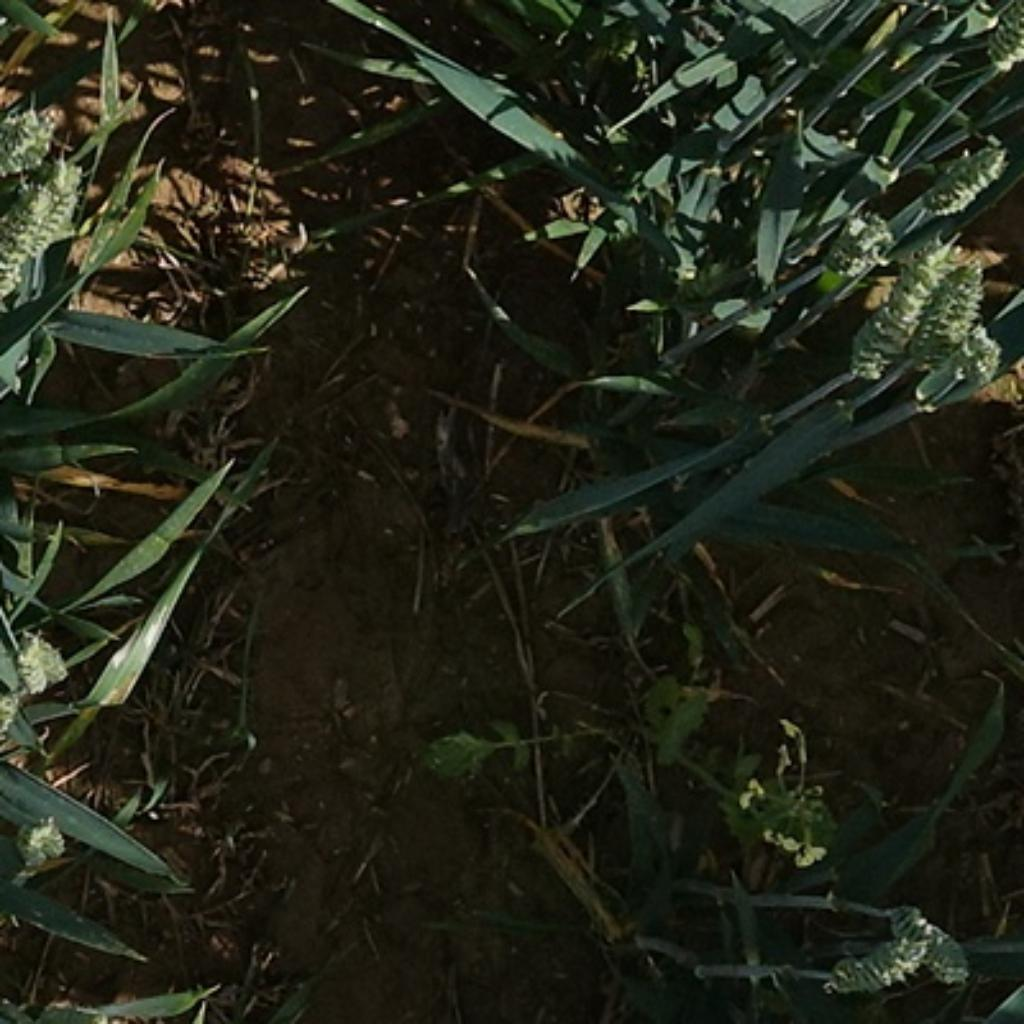0-0: (842, 238, 944, 396), (908, 128, 1018, 220), (913, 258, 990, 389), (811, 929, 931, 1008), (878, 896, 967, 995), (34, 153, 90, 264), (811, 202, 893, 276), (2, 178, 46, 305), (5, 624, 75, 700), (0, 94, 58, 174), (944, 332, 1008, 404), (7, 814, 71, 875), (980, 2, 1024, 69)
